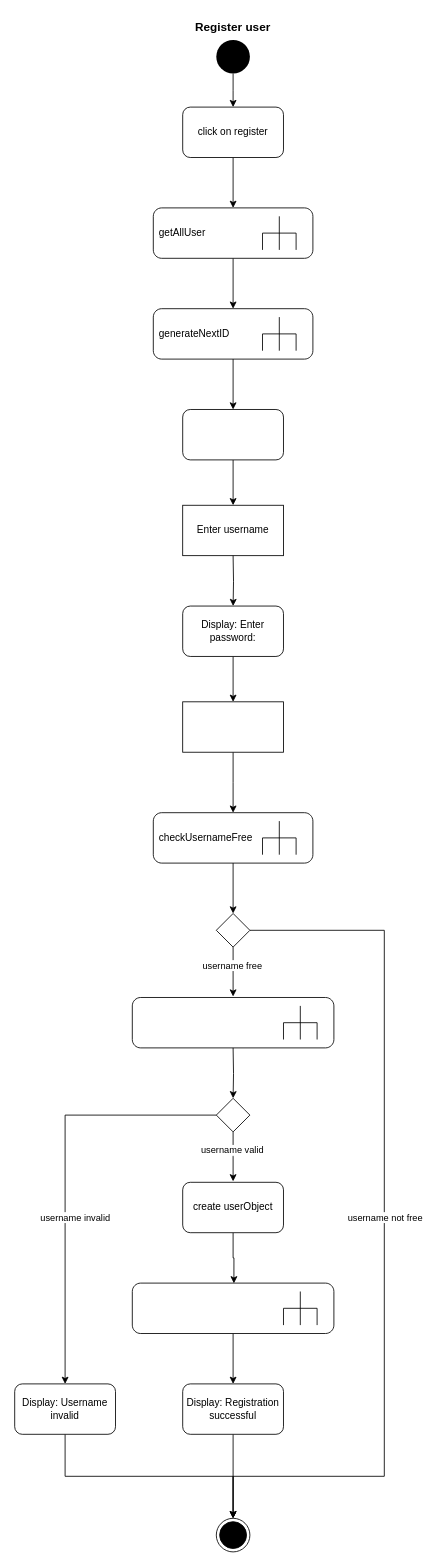
Image size: 437x1567. Some labels were removed from this diagram. The centre of each missing label's shape, as x and y in pixels:
"checkUsernameRegExp" belongs at (x=232, y=1022).
"Display: Enter username:" belongs at (x=233, y=434).
"Enter passwort" belongs at (x=233, y=726).
"writeJsonFile" belongs at (x=232, y=1308).
